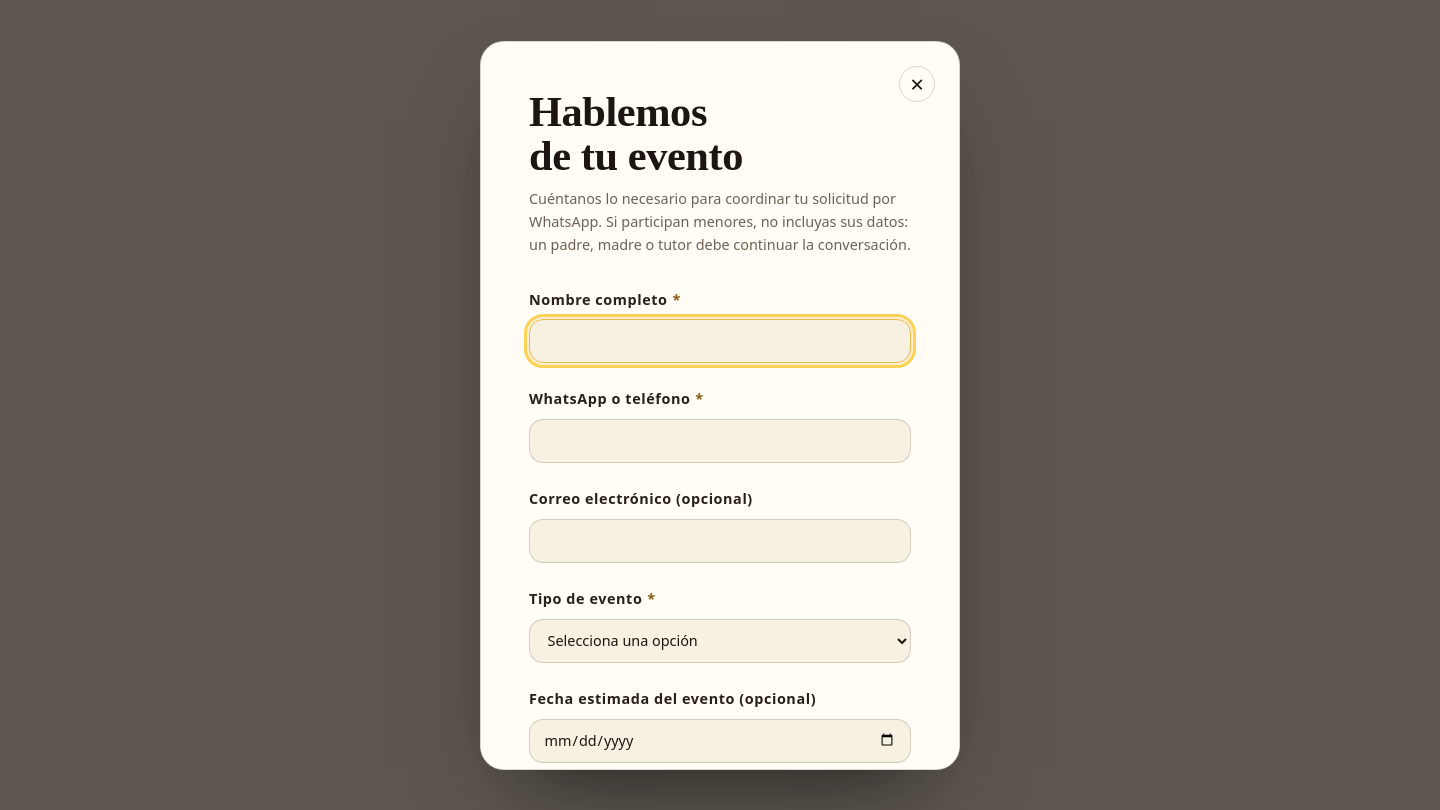
EventModal › requiere marcar la casilla de privacidad antes de enviar
The width and height of the screenshot is (1440, 810).
Type "Ana" into the field labelled "Nombre completo *" at (720, 341), box [529,319,911,363]
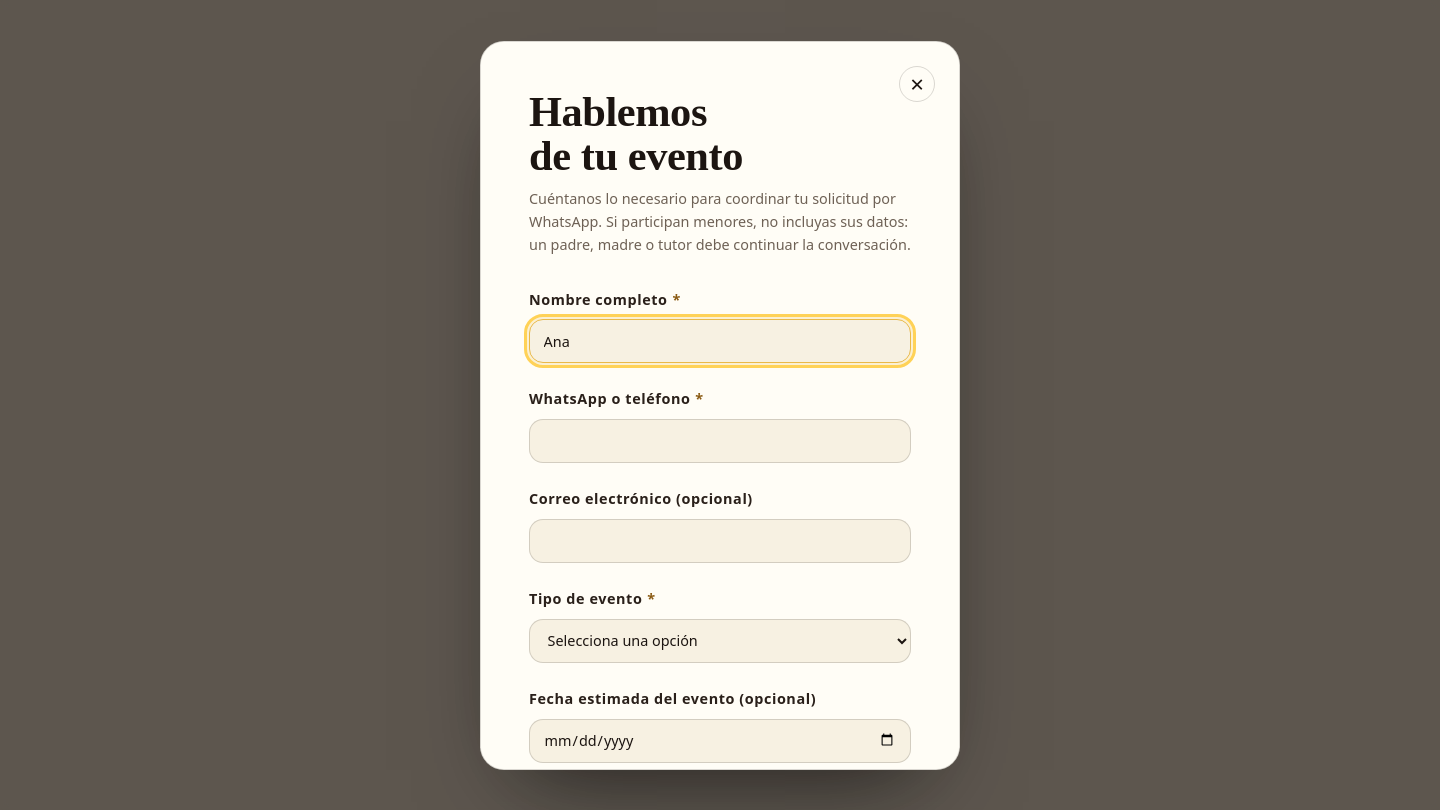
Type "3015150059" into the field labelled "WhatsApp o teléfono *" at (720, 441), box [529,419,911,463]
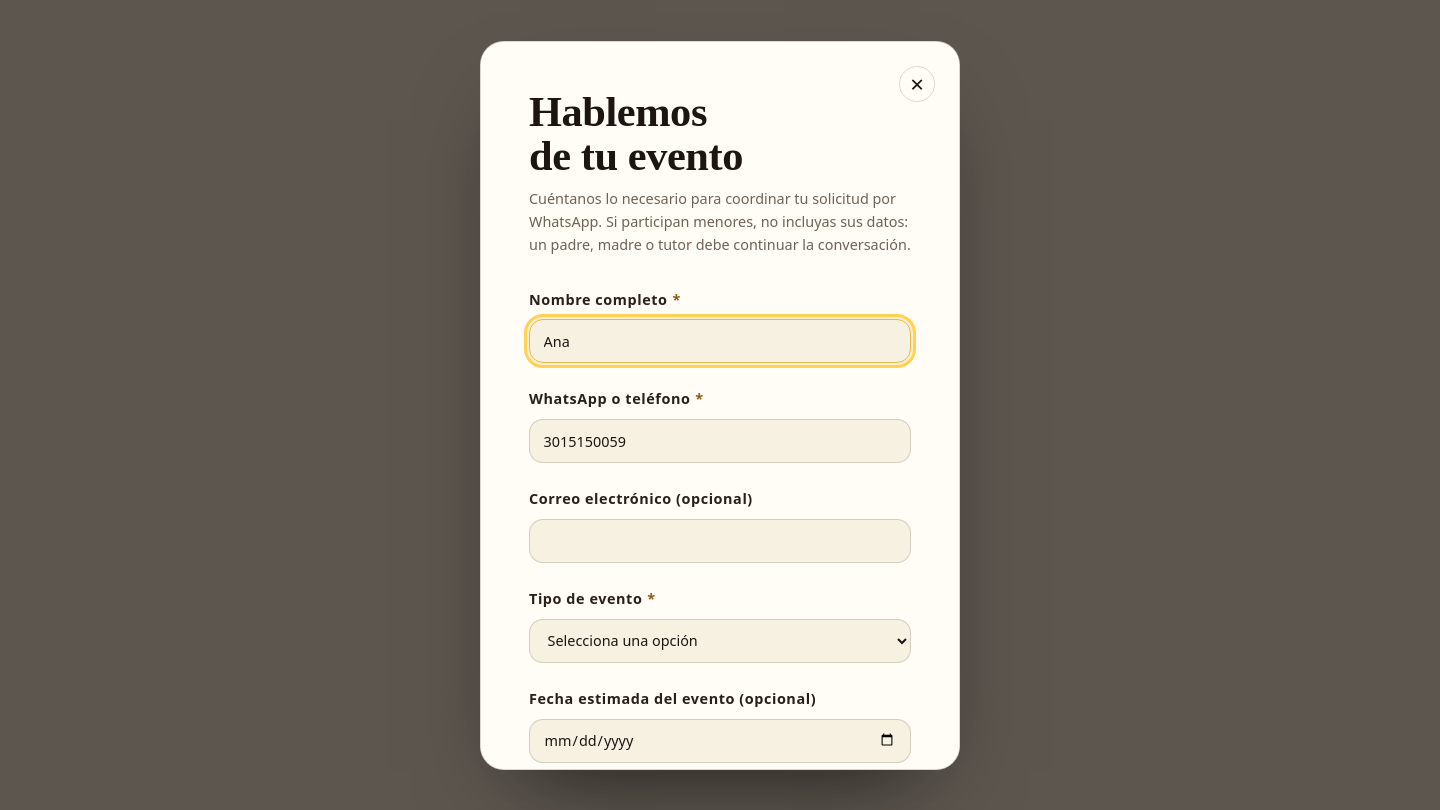
Select "Feria o mercado de emprendimientos" in the dropdown labelled "Tipo de evento *" at (720, 641), box [529,619,911,663]
(page scrolled)
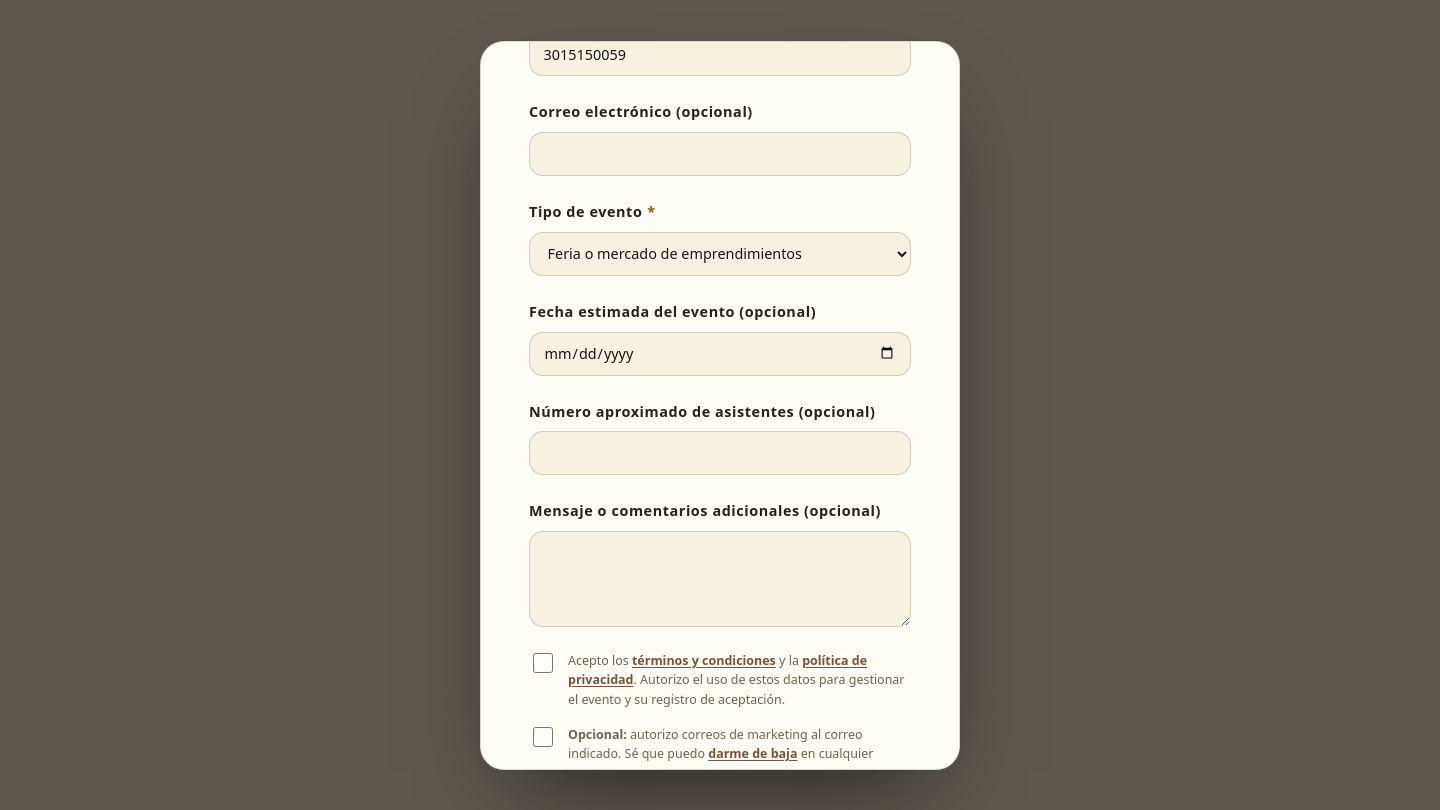
Submit the form with test id "event-form"
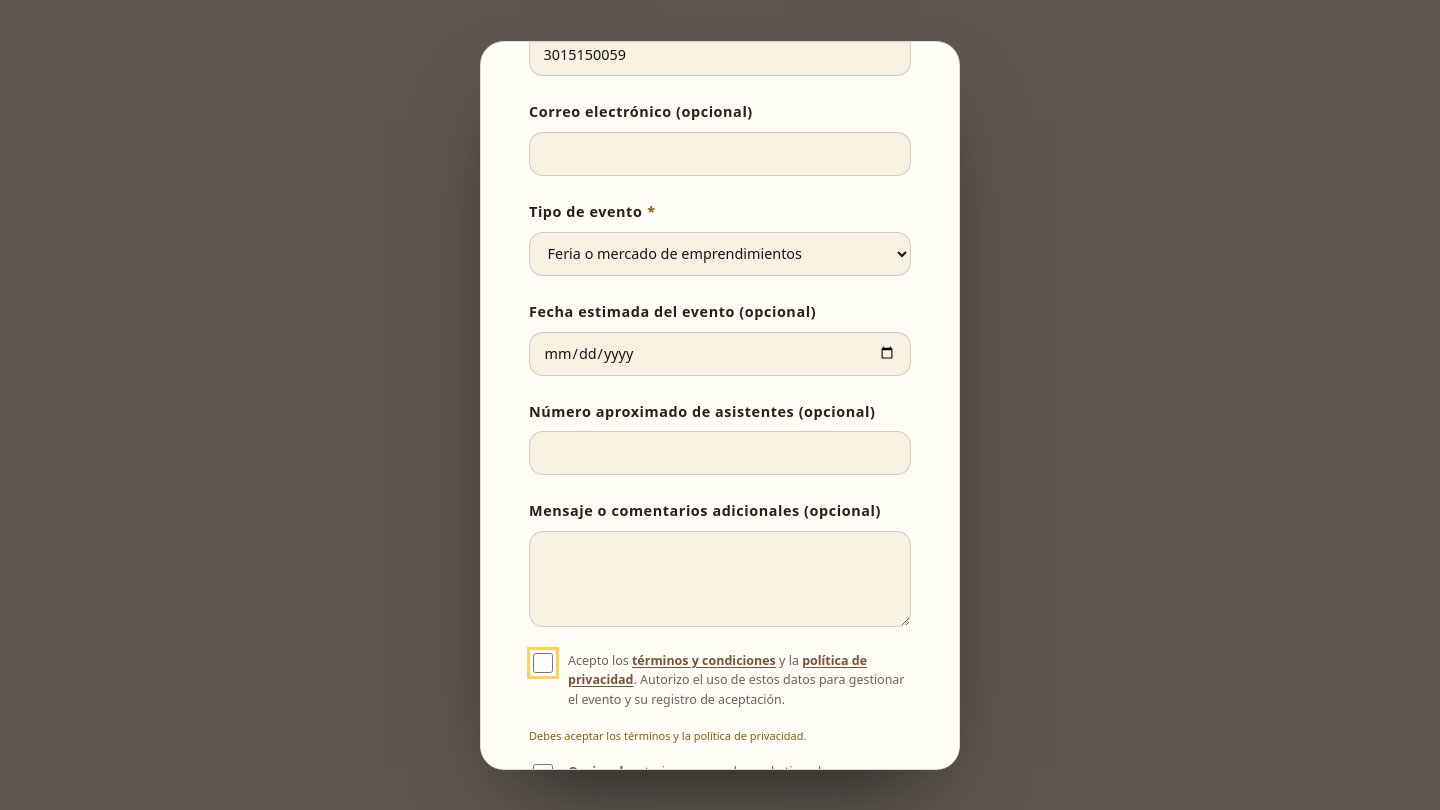
Result: the text "Debes aceptar los términos y la política de privacidad." is shown at [529,728,806,744]
